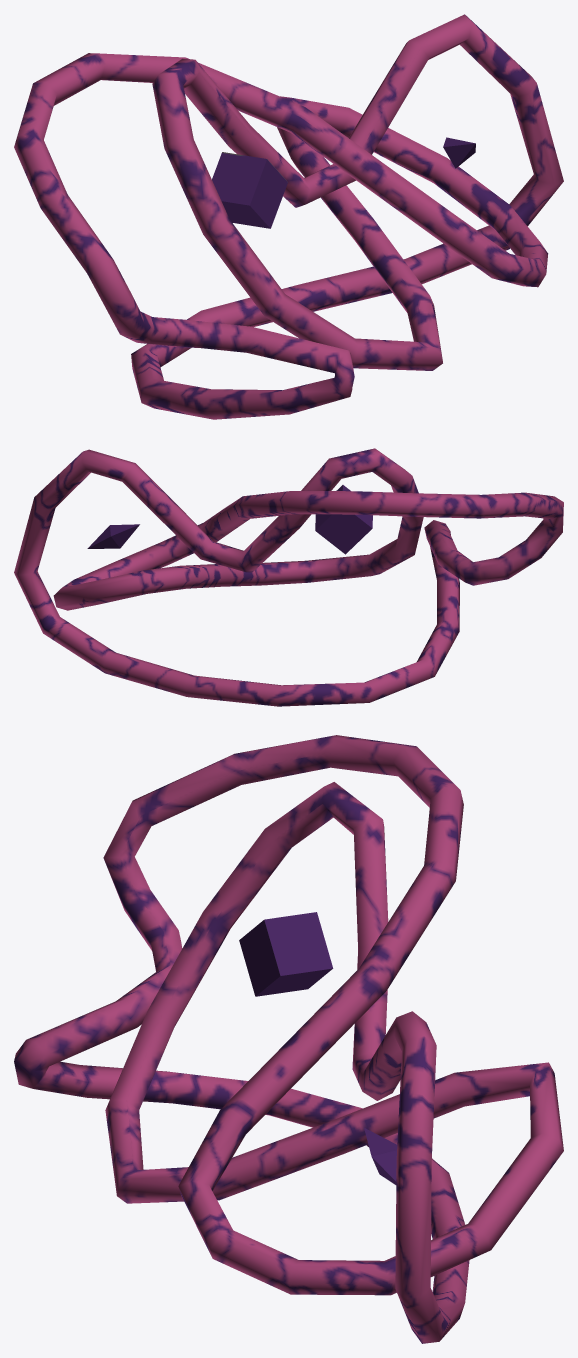
Rendered from obstaculo_pular_2.fbx.
3 views of the same model, one above another, from view 1: azimuth 30°, elevation 25°; view 2: azimuth 150°, elevation 25°; view 3: azimuth 270°, elevation 25° (orthographic). The views are drawn at different scales.
Parts seen in each view (by area): view 1: Pular 2; view 2: Pular 2; view 3: Pular 2.
Boxes of the visible parts, x1,y1,x2,y2 form: Pular 2: (14,14,563,419); Pular 2: (14,448,563,706); Pular 2: (14,735,563,1343).
Size of the model in its own units: 222 by 116 by 154.
